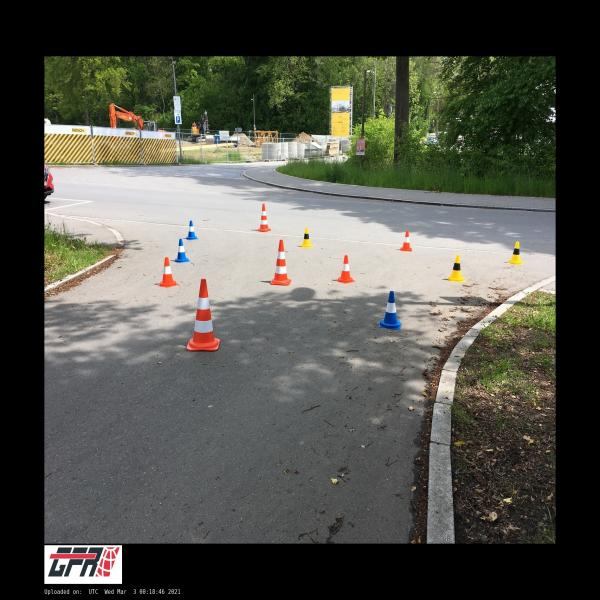blue_cone: (379, 291, 401, 330), (174, 239, 190, 263), (186, 221, 198, 240)
large_orange_cone: (186, 278, 220, 351), (270, 240, 291, 286), (257, 204, 271, 232)
orange_cone: (157, 258, 179, 288), (336, 256, 355, 284), (400, 231, 412, 251)
yellow_cone: (446, 255, 466, 282), (508, 241, 524, 265), (300, 228, 313, 248)
